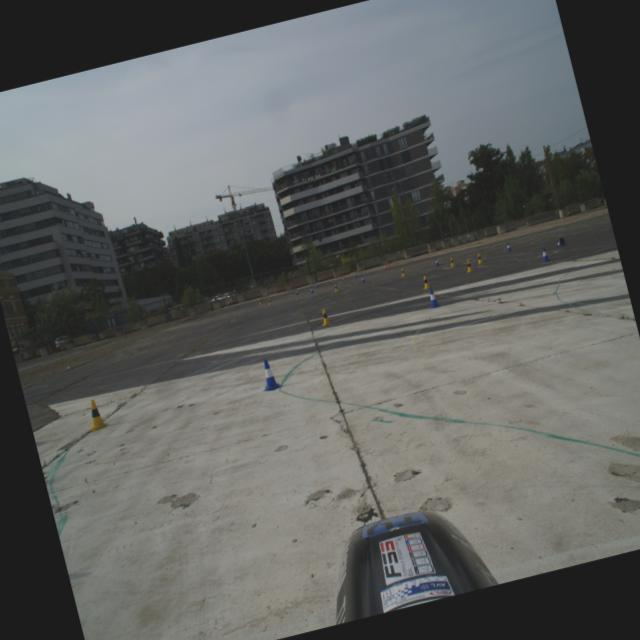blue_cone: (255, 357, 282, 392), (424, 286, 442, 308), (538, 246, 550, 262), (554, 236, 566, 247), (504, 241, 512, 252), (433, 257, 440, 266), (359, 274, 365, 283), (309, 286, 314, 293), (353, 270, 358, 276), (294, 288, 298, 294), (314, 282, 318, 288)
orange_cone: (382, 262, 388, 270), (386, 261, 390, 267)
yellow_cone: (82, 396, 108, 432), (318, 306, 332, 326), (420, 274, 432, 289), (463, 258, 474, 273), (475, 252, 484, 264), (398, 266, 406, 277), (448, 256, 456, 267), (332, 282, 339, 292), (266, 297, 272, 305), (256, 298, 262, 304), (340, 273, 346, 279), (294, 286, 298, 292)
